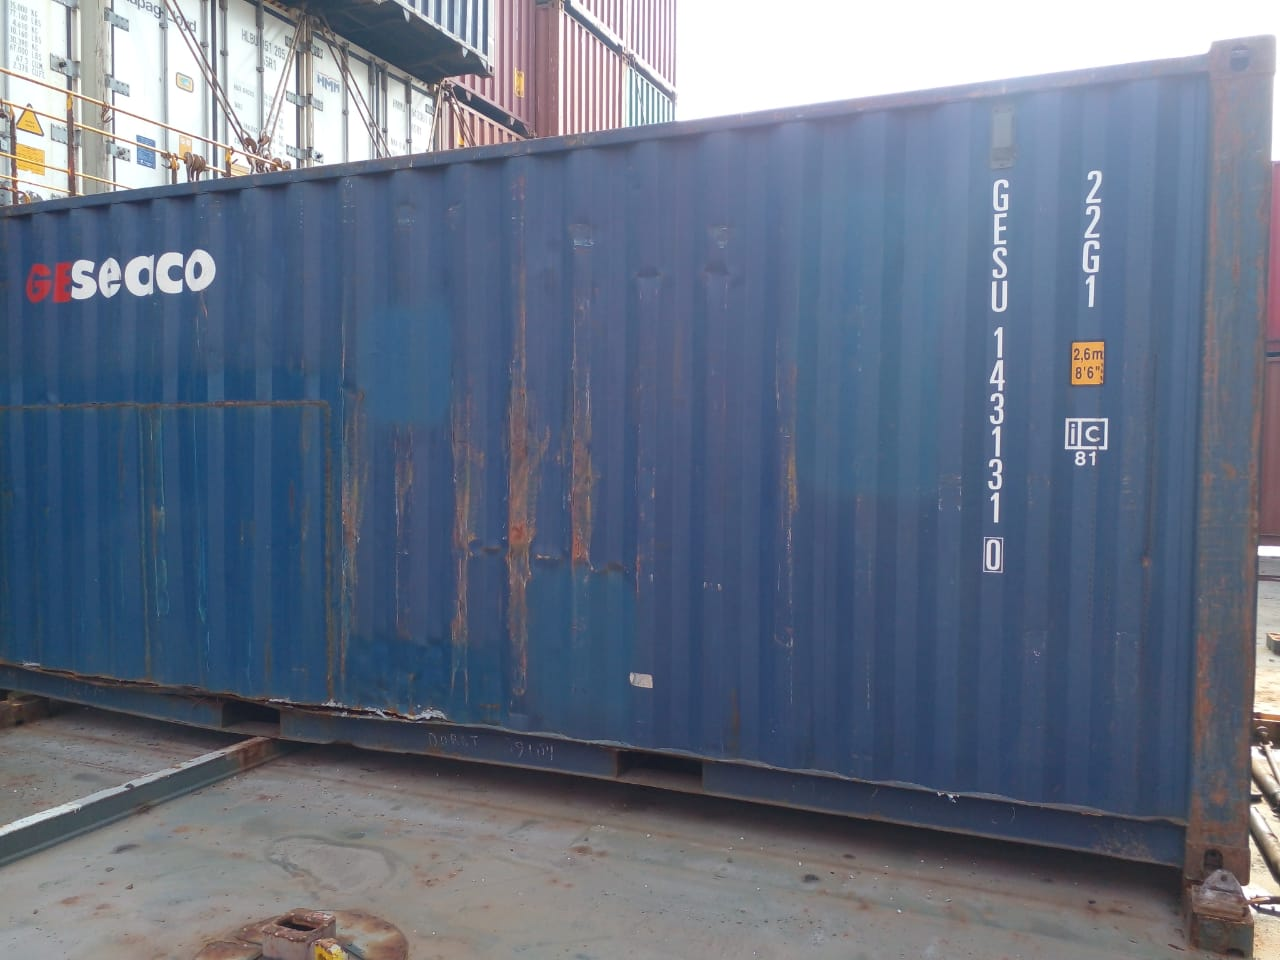cut: (19, 383, 348, 446)
dented: (613, 243, 749, 312)
rust: (326, 398, 619, 690)
